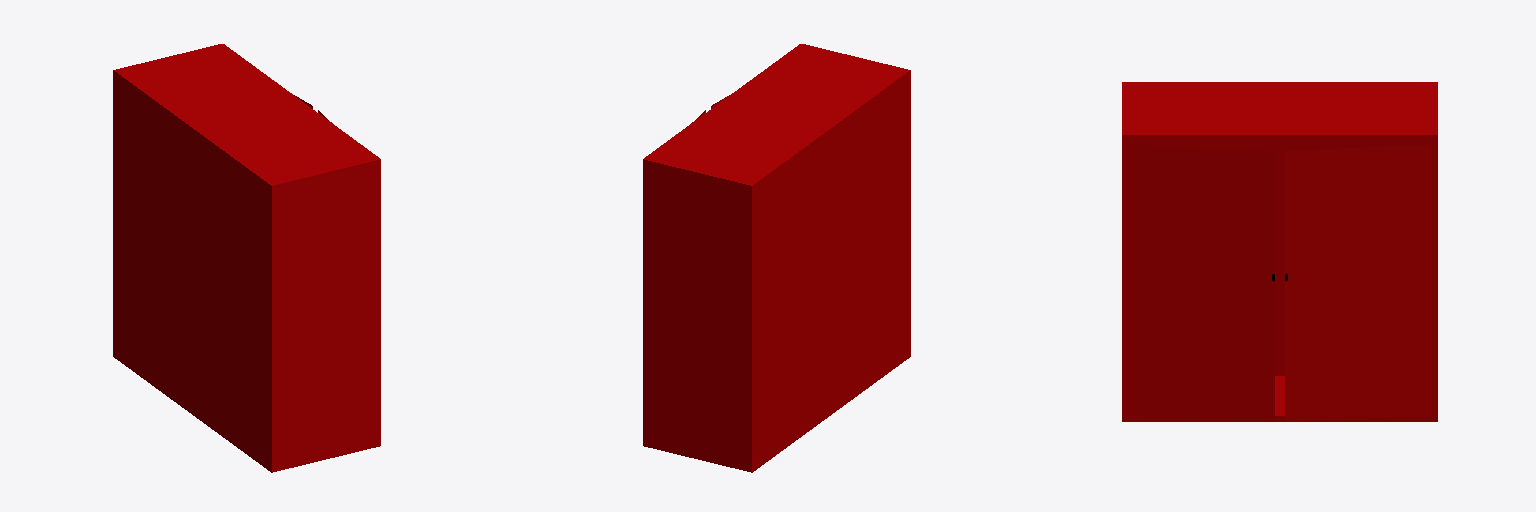
The model's file is Wardrobe.obj.
3 renders of one model, left to right at view 1: azimuth 30°, elevation 25°; view 2: azimuth 150°, elevation 25°; view 3: azimuth 270°, elevation 25°, orthographic.
Visible parts, largest first — view 1: Plane; view 2: Plane; view 3: Plane.
Boxes of the visible parts, x1=… form: Plane: x1=113, y1=44, x2=380, y2=472; Plane: x1=643, y1=44, x2=910, y2=472; Plane: x1=1122, y1=82, x2=1437, y2=421.
Size of the model in its own units: 0.926 by 2 by 2.